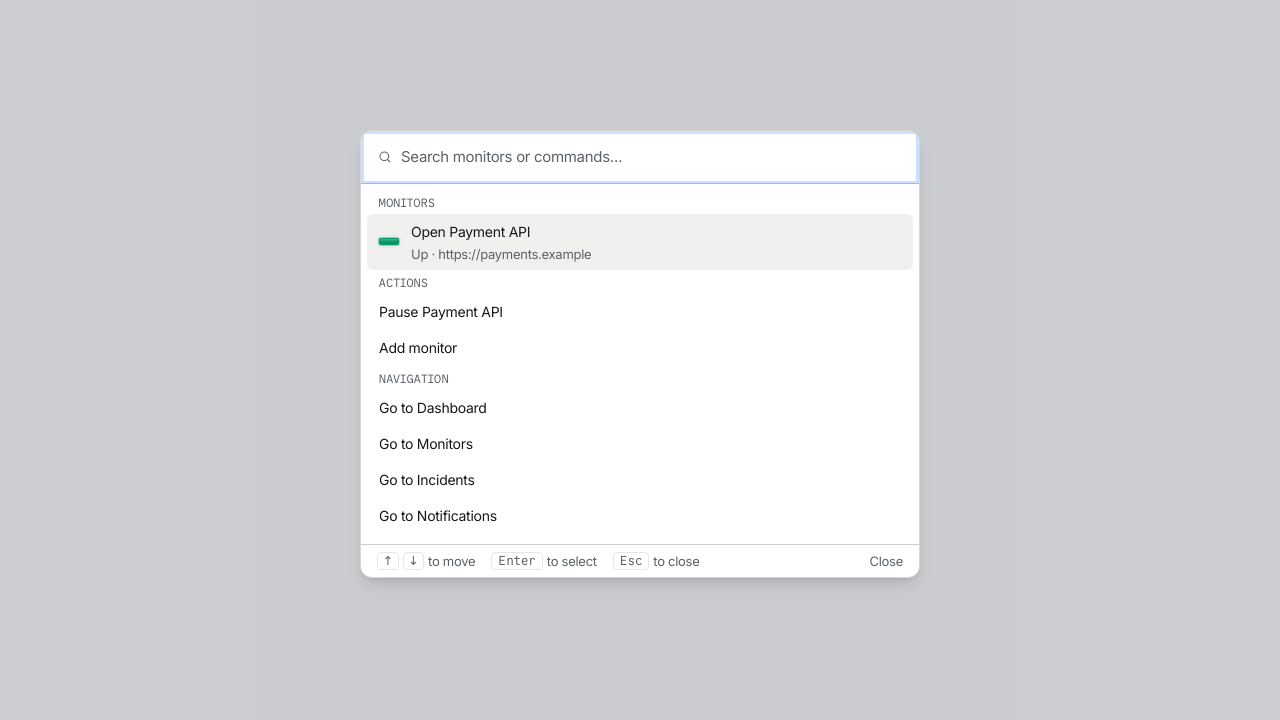
Test: keeps a failed write visible and retryable without inventing a paused state
The image size is (1280, 720).
Click the option "Pause Payment API" at (441, 311), box top-left (367, 294), bottom-right (913, 330)
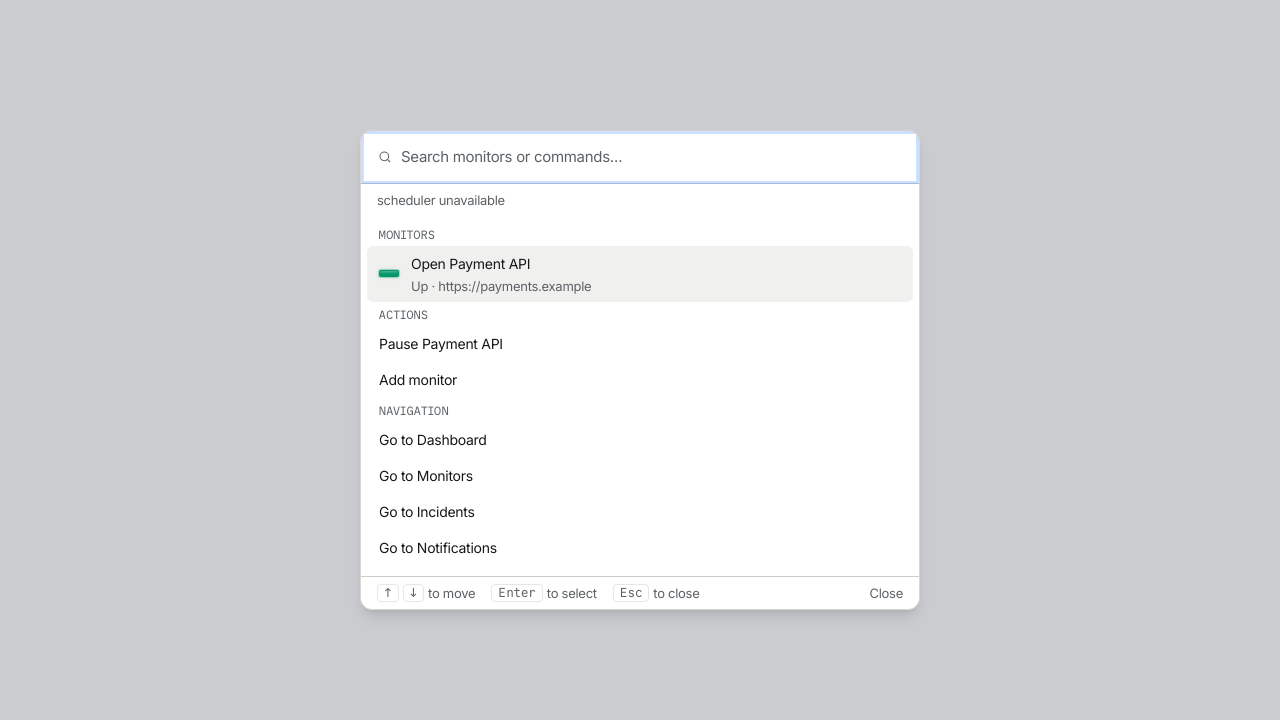
expect the option "Resume Payment API" is not shown: met
expect the message reads "scheduler unavailable": met, box top-left (377, 192), bottom-right (505, 208)
Click the option "Pause Payment API" at (441, 343), box top-left (367, 326), bottom-right (913, 362)
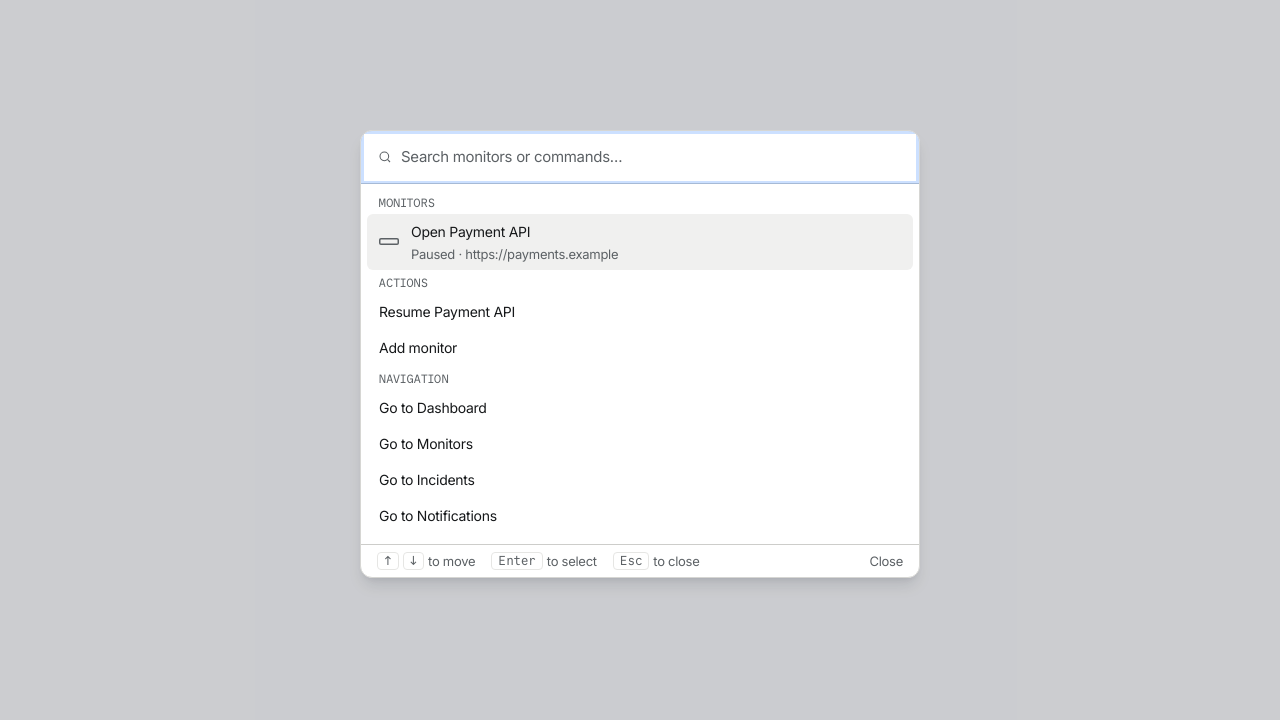
expect the option "Resume Payment API" is shown: met, box top-left (367, 294), bottom-right (913, 330)
expect the message "scheduler unavailable" is gone: met
